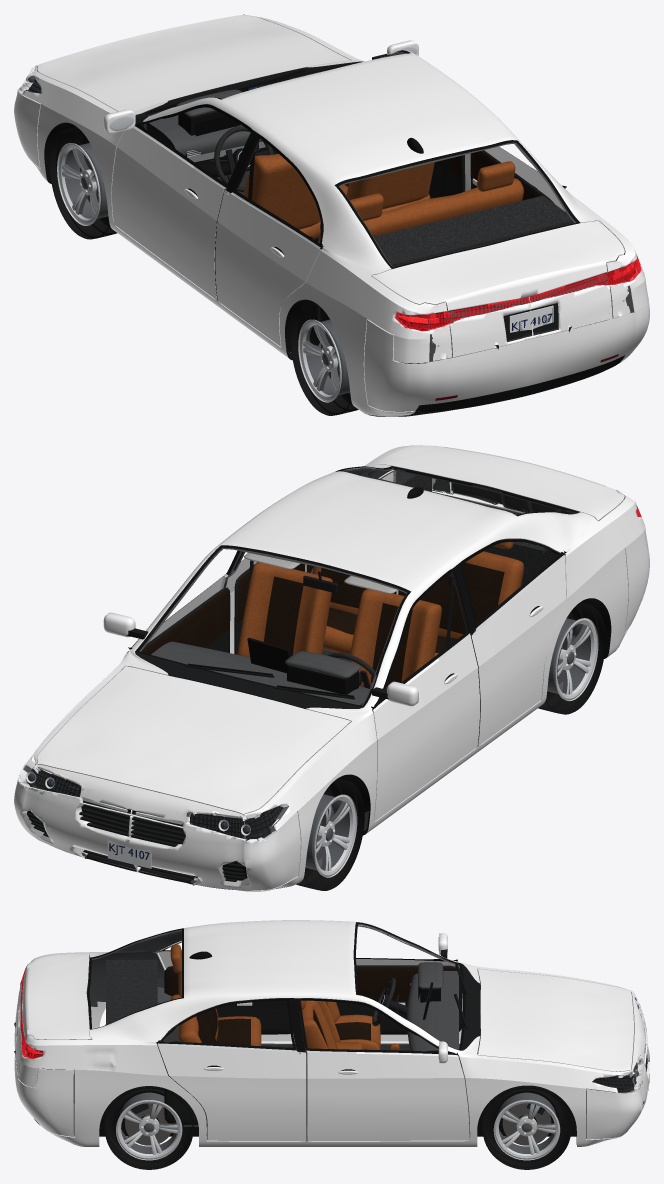
Rendered from sedan.gltf.
3 renders of one model, top to bottom at view 1: azimuth 30°, elevation 25°; view 2: azimuth 150°, elevation 25°; view 3: azimuth 270°, elevation 25°, orthographic. The views are drawn at different scales.
Visible parts, largest first — view 1: body, trunk, hood, bumper.r, door.fl, door.rl, wheel.fl, wheel.rl, door.rr, door.fr, bumper.f; view 2: body, hood, bumper.f, door.fl, door.rl, trunk, wheel.fl, wheel.rl, door.fr, bumper.r, door.rr; view 3: body, door.fr, hood, door.rr, trunk, wheel.fr, wheel.rr, door.fl, bumper.f, bumper.r, door.rl.
Part boxes in pixels (box(x1,y1,x2,y2)): body: box(17, 14, 648, 416); trunk: box(372, 220, 624, 357); hood: box(37, 14, 350, 112); bumper.r: box(364, 297, 649, 412); door.fl: box(103, 104, 252, 300); door.rl: box(215, 134, 323, 346); wheel.fl: box(49, 126, 117, 239); wheel.rl: box(291, 304, 358, 415); door.rr: box(470, 146, 566, 210); door.fr: box(372, 40, 470, 198); bumper.f: box(14, 33, 148, 168); body: box(18, 445, 648, 891); hood: box(37, 666, 350, 814); bumper.f: box(14, 764, 300, 891); door.fl: box(371, 568, 479, 821); door.rl: box(459, 539, 566, 746); trunk: box(372, 445, 624, 521); wheel.fl: box(296, 778, 364, 890); wheel.rl: box(538, 602, 605, 714); door.fr: box(103, 550, 240, 654); bumper.r: box(381, 471, 649, 633); door.rr: box(226, 558, 313, 654); body: box(17, 920, 643, 1146); door.fr: box(298, 998, 469, 1140); hood: box(478, 968, 633, 1071); door.rr: box(156, 998, 306, 1140); trunk: box(14, 952, 92, 1069); wheel.fr: box(482, 1085, 571, 1169); wheel.rr: box(104, 1086, 193, 1169); door.fl: box(336, 925, 462, 1041); bumper.f: box(586, 991, 649, 1139); bumper.r: box(14, 1014, 73, 1137); door.rl: box(156, 947, 294, 1041).
Size of the model in its own units: 2.18 by 1.45 by 4.92.
Materials: 48 (11 with a texture image).
